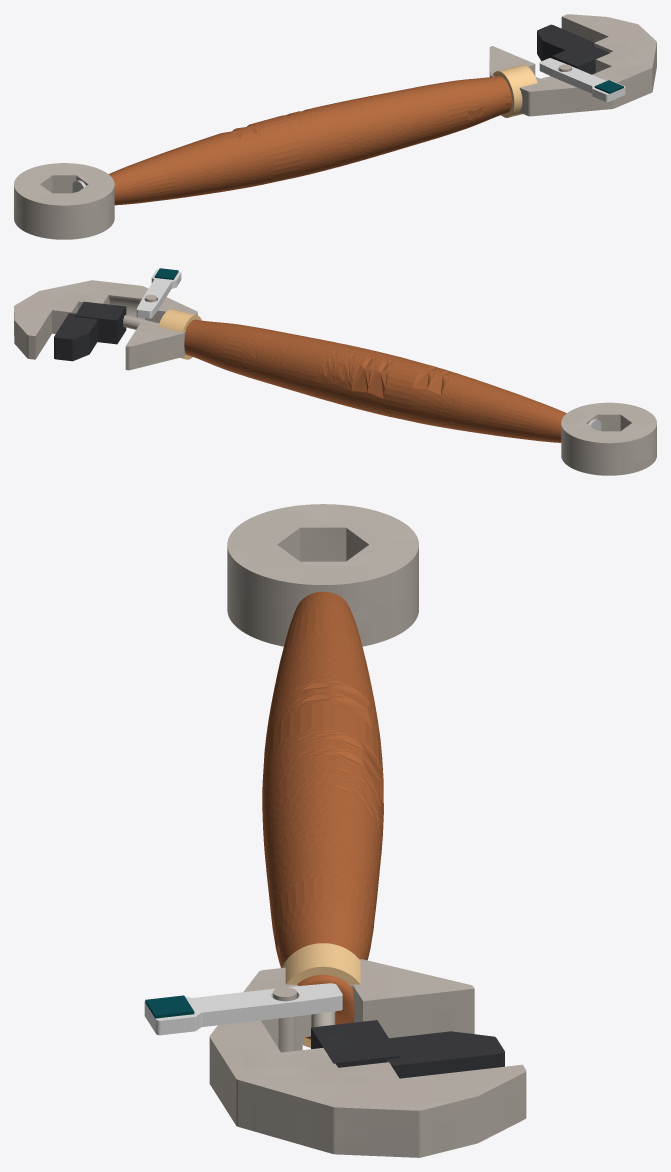
The model's file is Handtools_Wrench__0051.glb.
3 views of the same model, one above another, from view 1: azimuth 30°, elevation 25°; view 2: azimuth 150°, elevation 25°; view 3: azimuth 270°, elevation 25° (orthographic). The views are drawn at different scales.
Visible parts, largest first — view 1: wrench_body::wood_grip, wrench_body::body_shell, movable_jaw::jaw_shell, thumb_lever::lever_shell, wrench_body::ferrule_collar; view 2: wrench_body::wood_grip, wrench_body::body_shell, movable_jaw::jaw_shell, thumb_lever::lever_shell, wrench_body::ferrule_collar; view 3: wrench_body::body_shell, wrench_body::wood_grip, movable_jaw::jaw_shell, thumb_lever::lever_shell, wrench_body::ferrule_collar.
Part boxes in pixels (<box>): wrench_body::wood_grip: <box>109,76,511,205</box>; wrench_body::body_shell: <box>14,14,656,239</box>; movable_jaw::jaw_shell: <box>537,24,609,74</box>; thumb_lever::lever_shell: <box>539,58,625,102</box>; wrench_body::ferrule_collar: <box>493,65,537,117</box>; wrench_body::wood_grip: <box>184,319,566,442</box>; wrench_body::body_shell: <box>14,280,656,475</box>; movable_jaw::jaw_shell: <box>54,301,126,361</box>; thumb_lever::lever_shell: <box>136,269,181,318</box>; wrench_body::ferrule_collar: <box>158,309,201,359</box>; wrench_body::body_shell: <box>209,504,526,1157</box>; wrench_body::wood_grip: <box>262,591,383,1039</box>; movable_jaw::jaw_shell: <box>311,1020,504,1078</box>; thumb_lever::lever_shell: <box>144,983,342,1035</box>; wrench_body::ferrule_collar: <box>281,943,360,1047</box>.
Size of the model in its own units: 0.3541 by 0.0305 by 0.0956.
7 materials, 4 textured.
